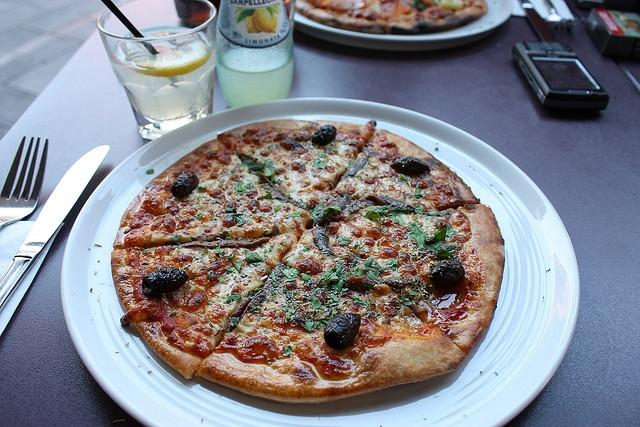lemon: (132, 46, 212, 77), (255, 7, 277, 33), (244, 10, 262, 33)
